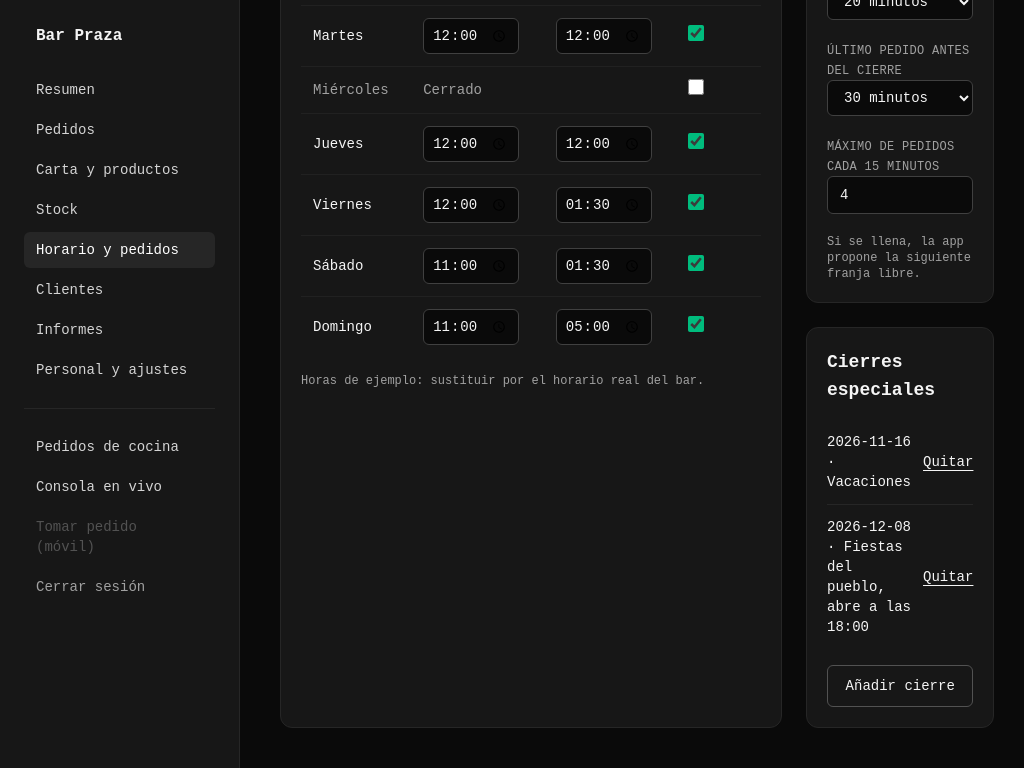
Test: ClosuresCard edge cases › rejects a date that does not exist
(page scrolled)
Click the button "Añadir cierre" at (900, 686), box [827,665,973,707]
(page scrolled)
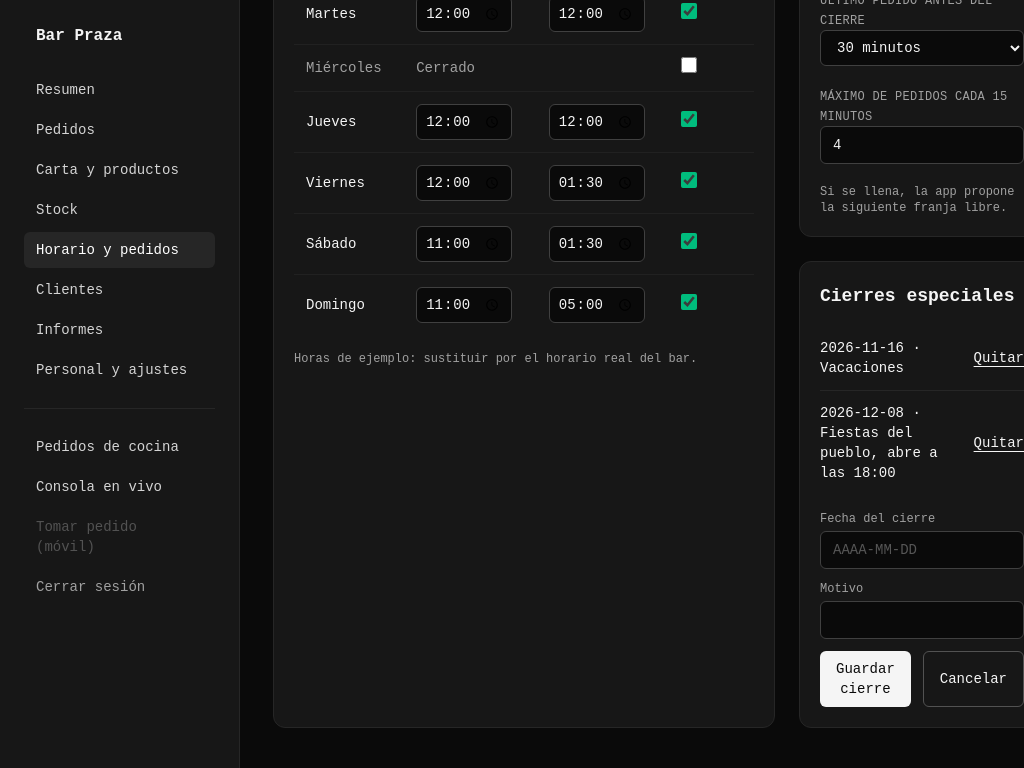
Type "2027-02-30" into the field labelled "Fecha del cierre" at (922, 550), box [820,531,1023,569]
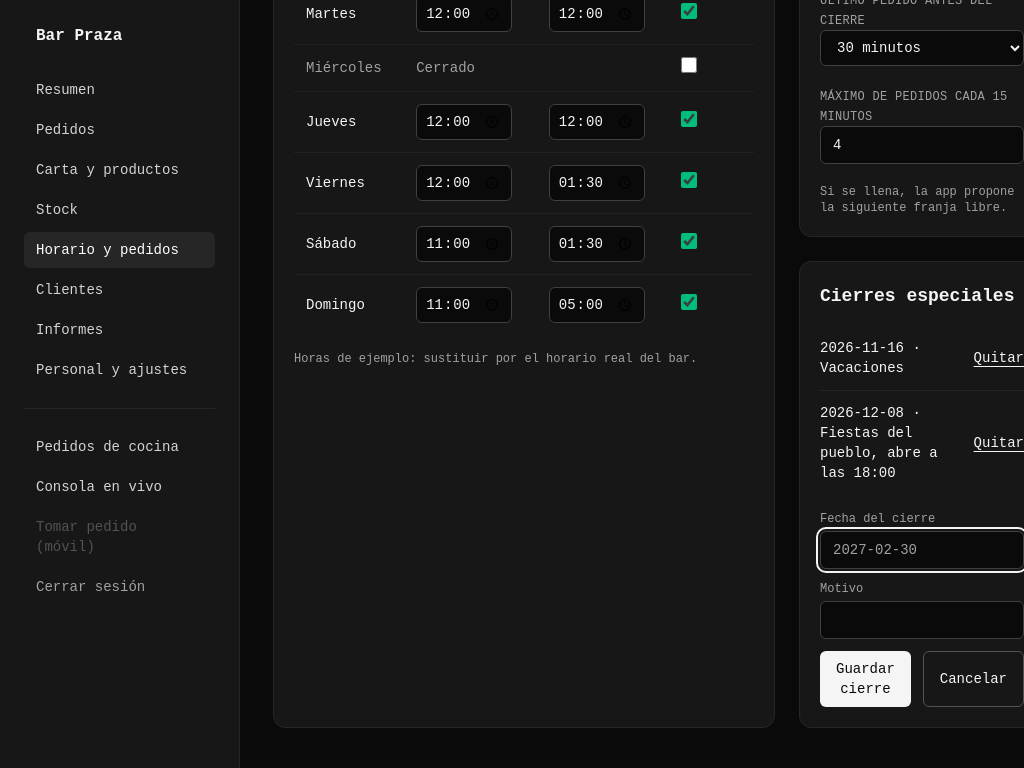
Type "Reforma" into the field labelled "Motivo" at (922, 620), box [820,601,1023,639]
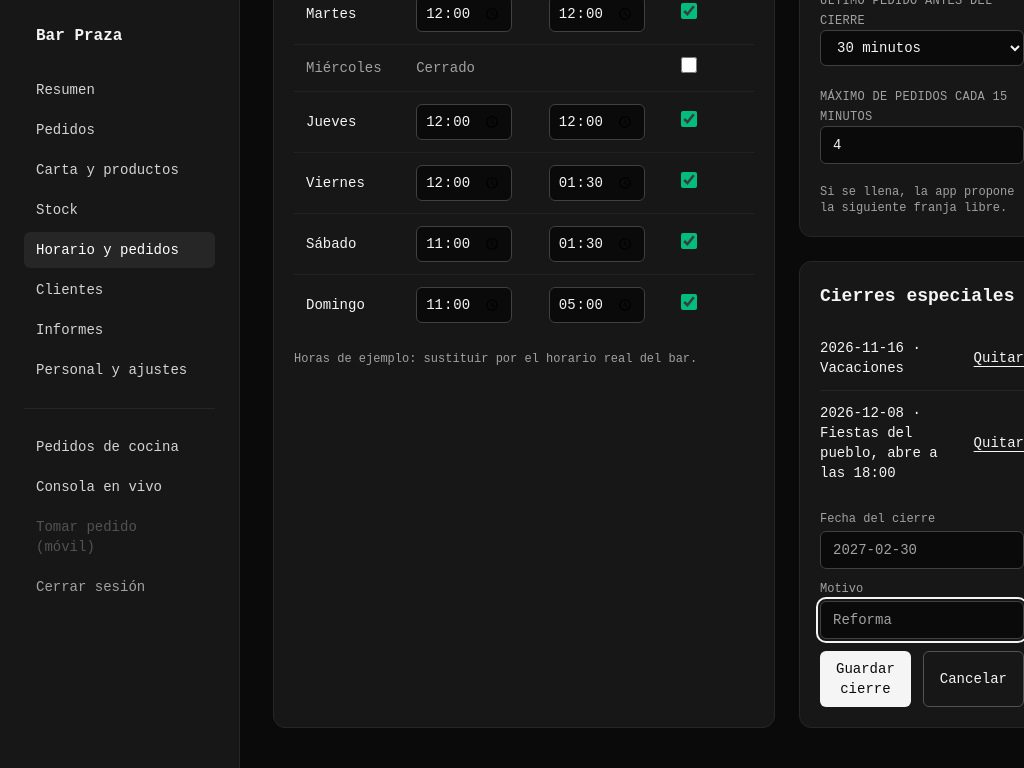
Click the button "Guardar cierre" at (865, 679), box [820,651,911,707]
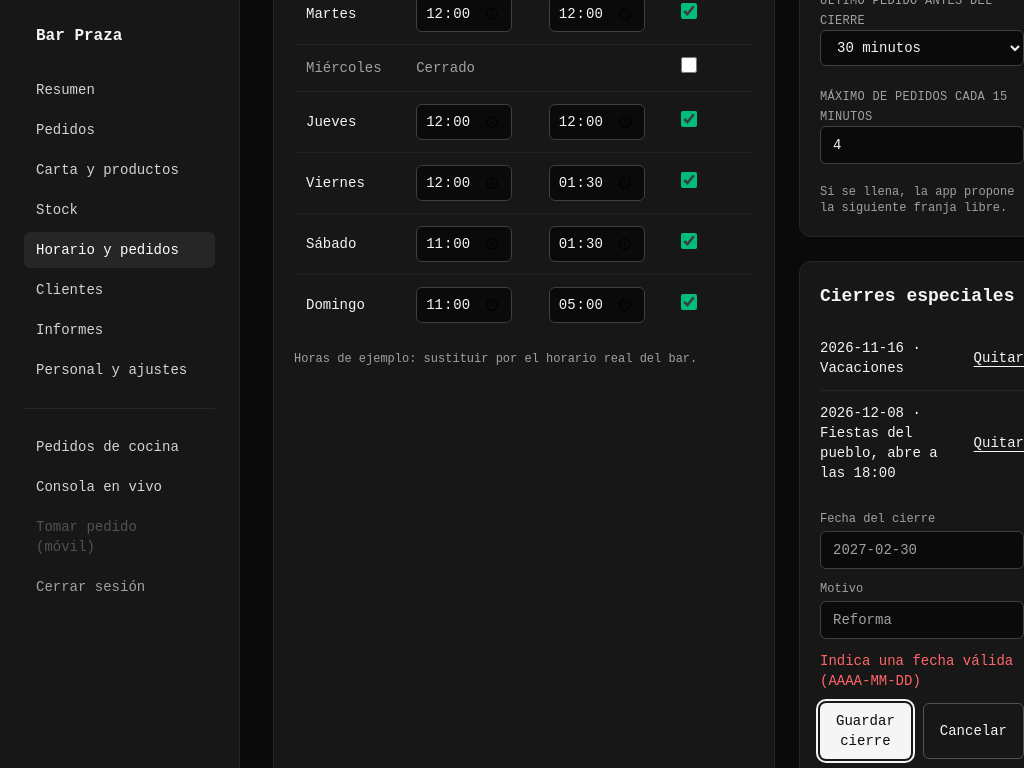
Expected: the message reads "Indica una fecha válida (AAAA-MM-DD)", [820,653,1013,689]
